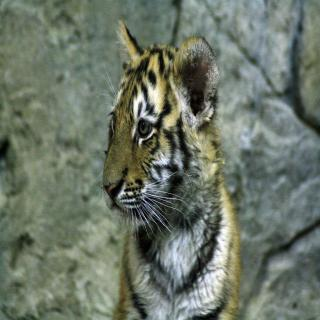Tiger: (90, 17, 242, 320)
